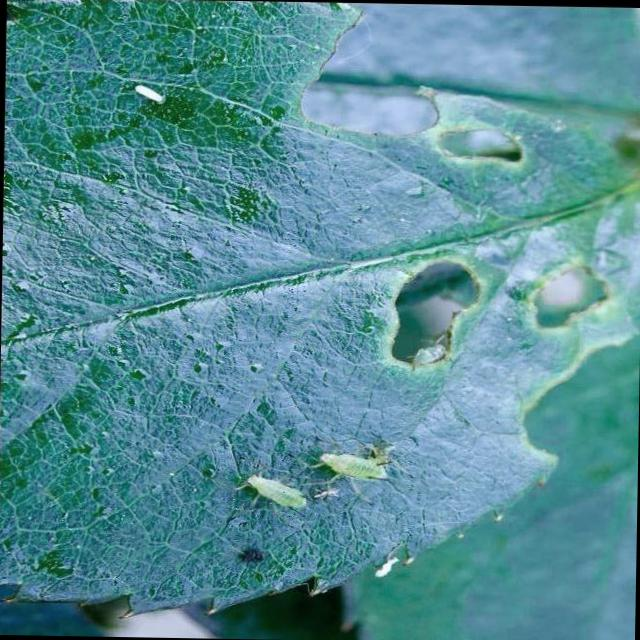aphid: (304, 430, 428, 485), (220, 465, 322, 518)
